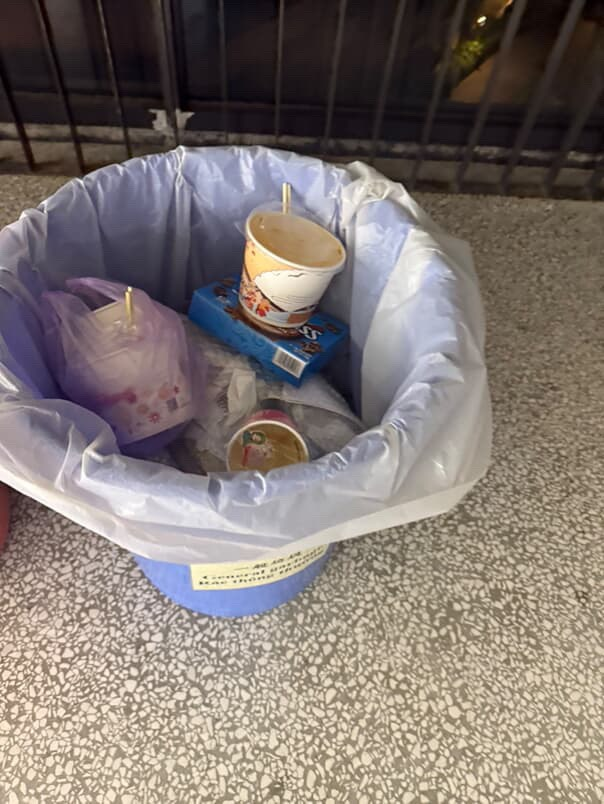overflow_bin: (11, 137, 514, 631)
